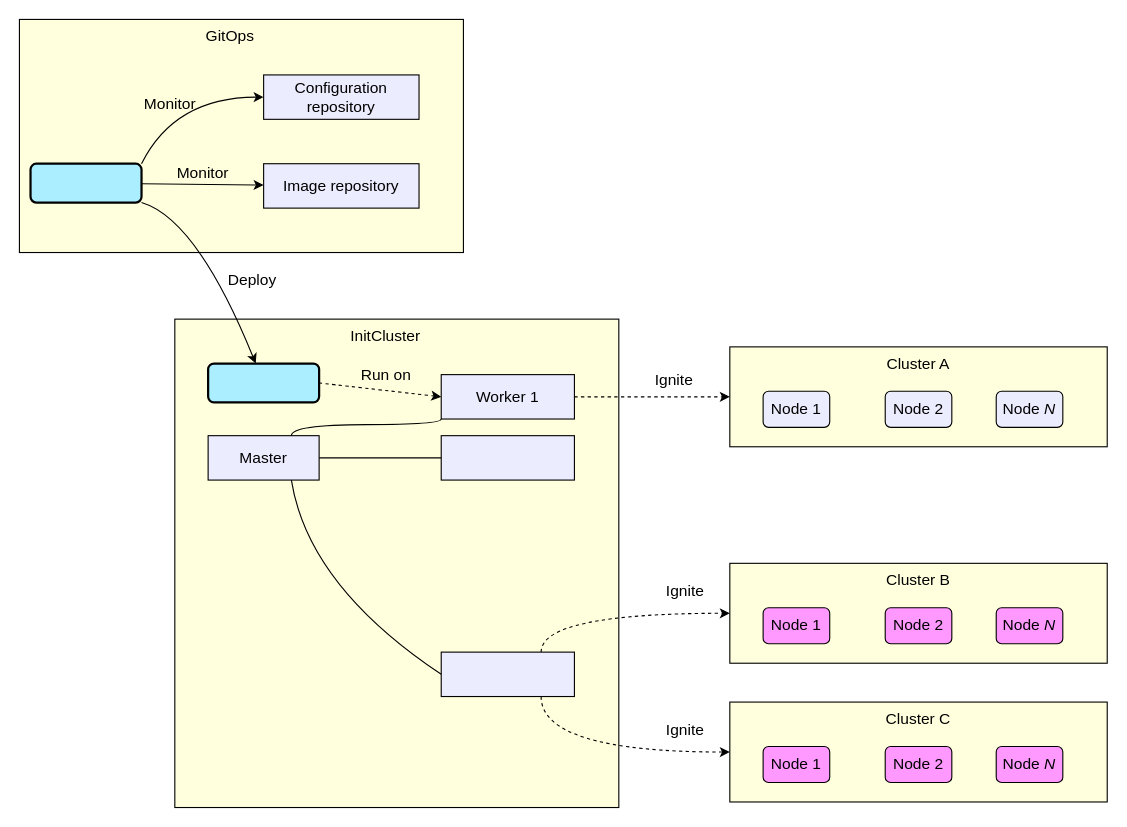
This 1127x827 diagram has some shape labels left out. Each missing label, with the box of its shape:
eggops: (206, 362, 320, 403)
Operator: (29, 162, 142, 203)
Worker ...: (440, 435, 574, 480)
Worker N: (440, 651, 574, 697)
